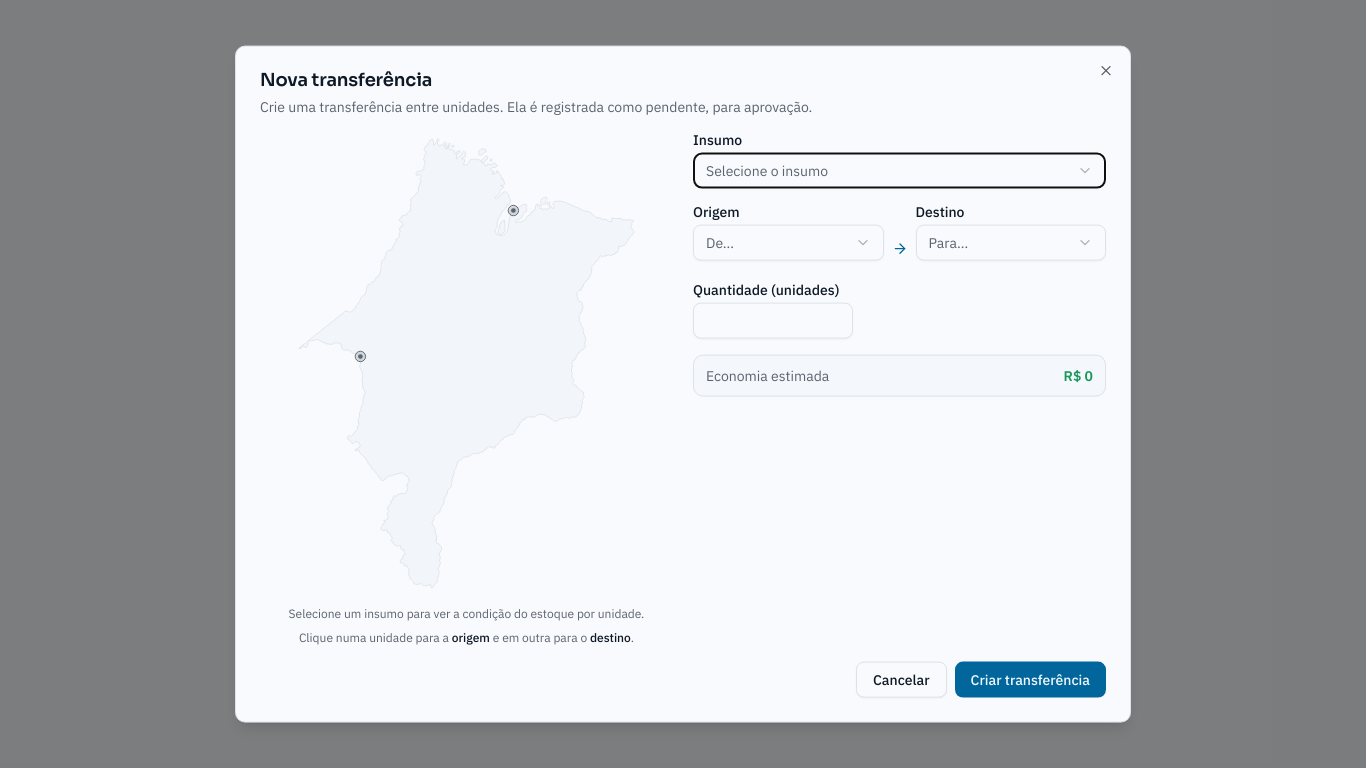
Test: TransferenciaFormDialog › calcula a economia ao vivo conforme a quantidade (qtd × 12)
Expected: the text with test id "economia-estimada" shows "0", [1064,367,1093,385]
Type "50" into the number field labelled "Quantidade (unidades)" at (773, 321), box [693,303,853,339]
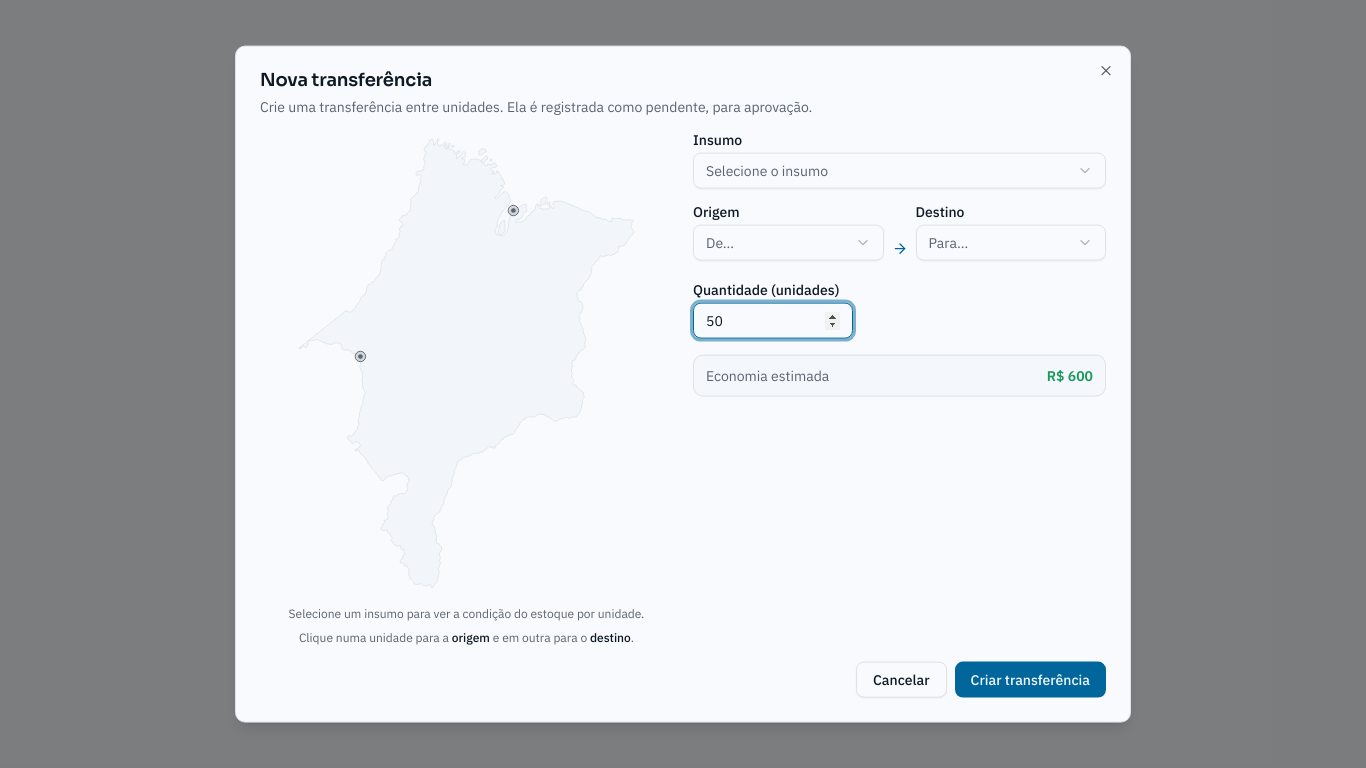
Expected: the text with test id "economia-estimada" shows "600", [1047,367,1093,385]
